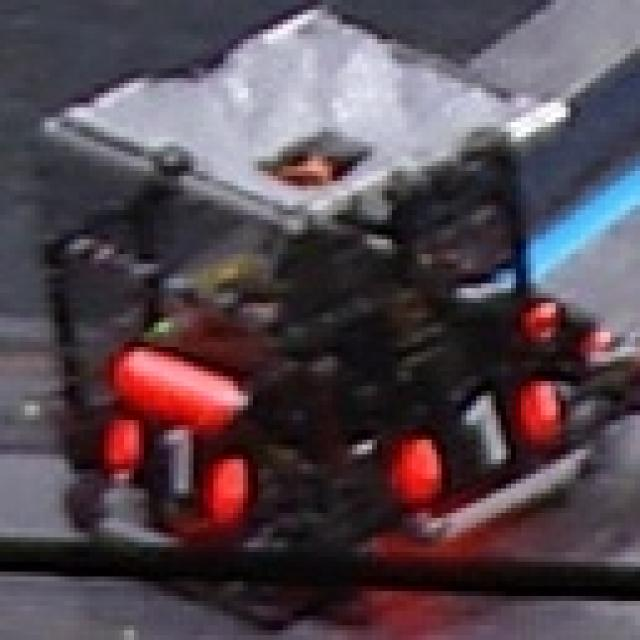R1: (382, 374, 566, 491), (89, 406, 258, 528), (434, 266, 558, 330)
